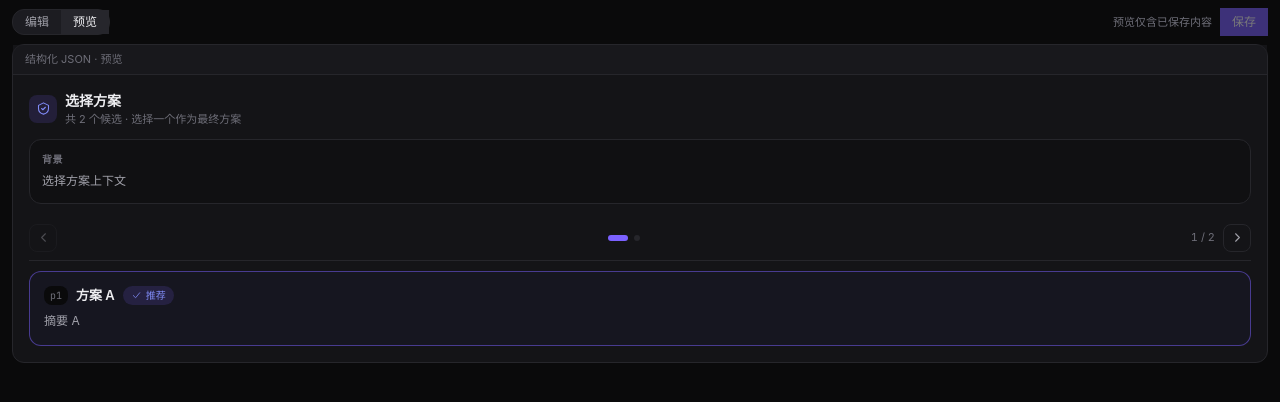
Test: GateProductEditor › shows proposals form unsupported callout with disabled empty controls
Click the button with test id "gate-mode-edit" at (37, 22), box [13, 10, 61, 34]
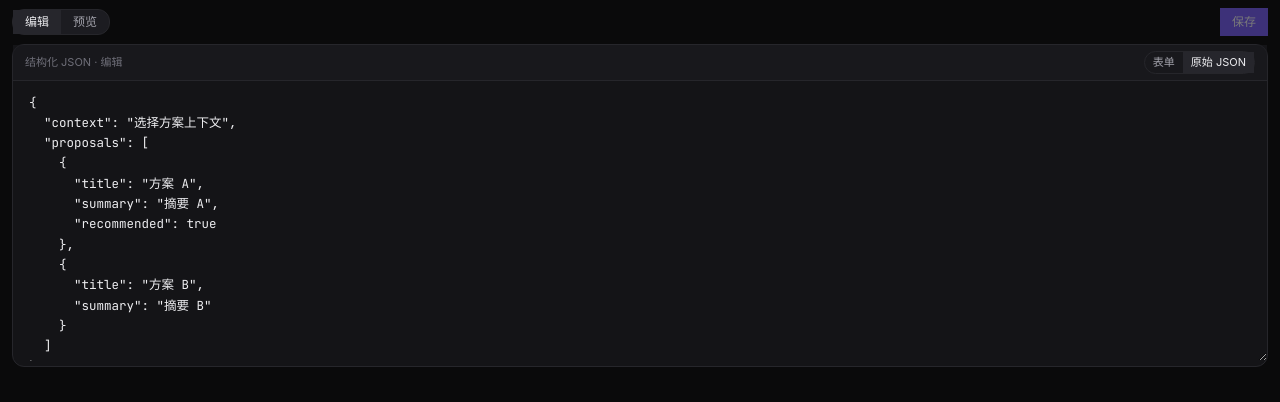
Click the button with test id "gate-struct-form" at (1164, 62), box [1145, 52, 1183, 72]
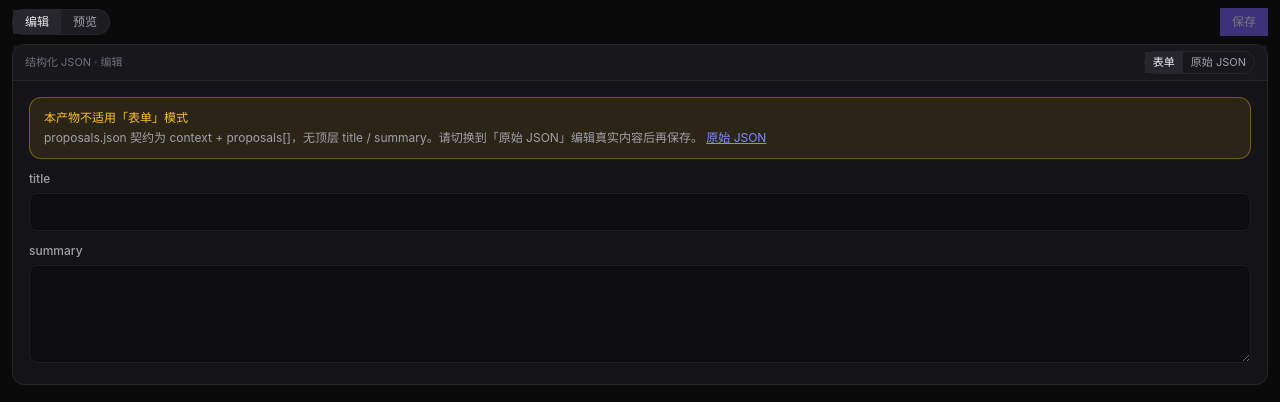
Result: the message with test id "gate-proposals-form-unsupported" is shown at [29, 96, 1251, 158]
Result: the message with test id "gate-proposals-form-unsupported" shows "无顶层 title" at [44, 130, 706, 144]
Result: the text box with test id "gate-form-summary" is disabled at [29, 264, 1251, 362]
